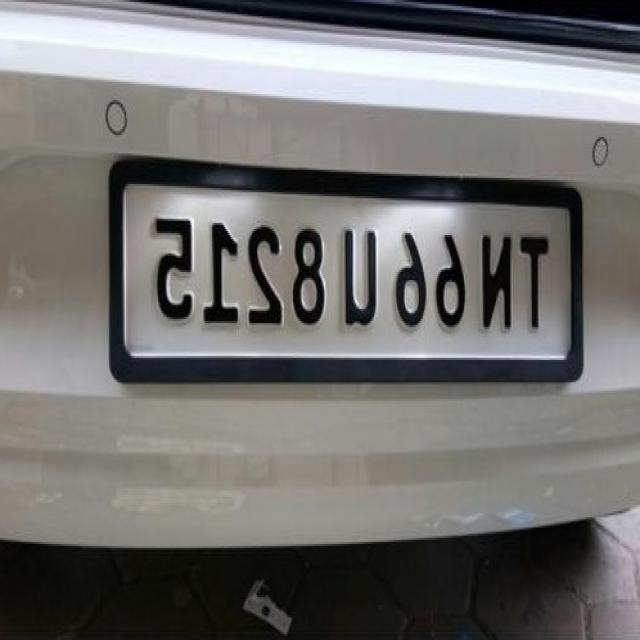license_plate: (100, 157, 593, 386)
